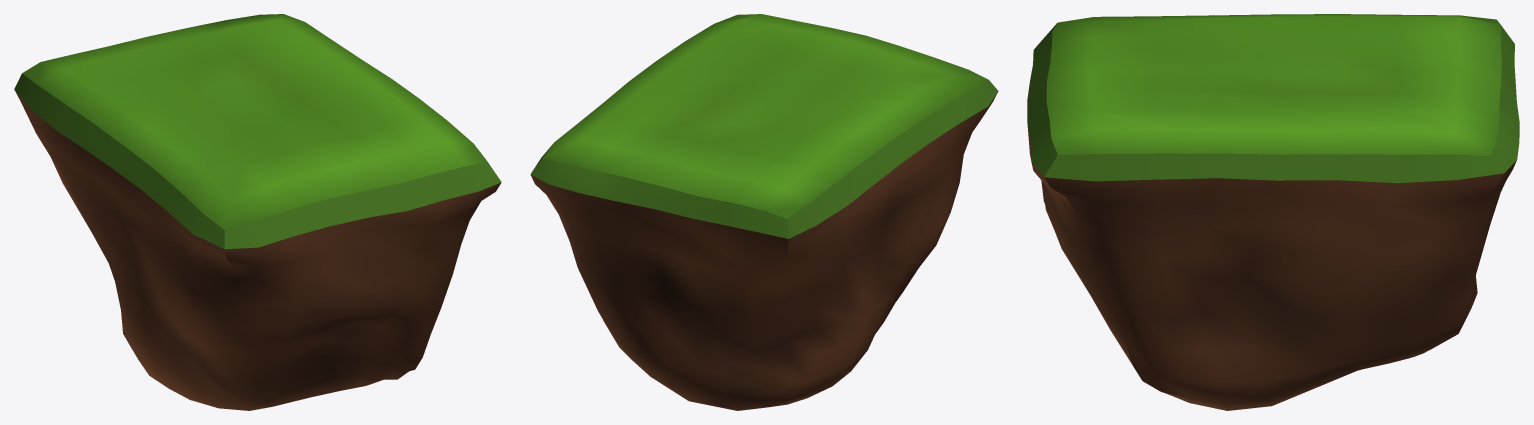
File: DirtPlatform1.fbx
3 views of the same model, side by side, from view 1: azimuth 30°, elevation 25°; view 2: azimuth 150°, elevation 25°; view 3: azimuth 270°, elevation 25° (orthographic). The views are drawn at different scales.
Visible parts, largest first — view 1: DirtPlatform1; view 2: DirtPlatform1; view 3: DirtPlatform1.
Boxes of the visible parts, bbox=[...] form: DirtPlatform1: bbox=[14, 14, 501, 410]; DirtPlatform1: bbox=[530, 14, 998, 410]; DirtPlatform1: bbox=[1027, 14, 1519, 410].
Bounding box in the file's own units: 415 × 385 × 554.
